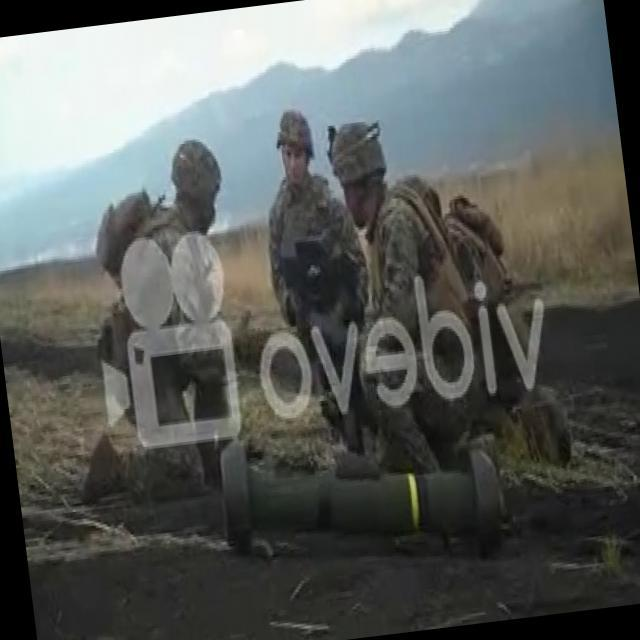rocket: (205, 403, 507, 578)
